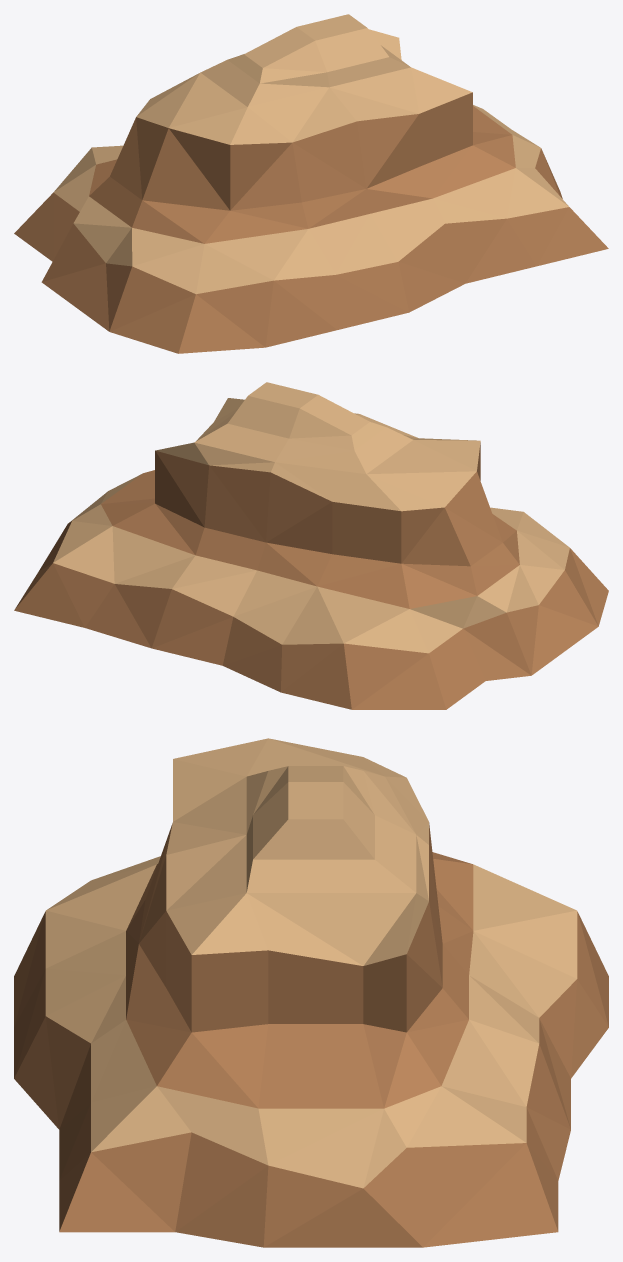
Rendered from Rock_1.fbx.
3 renders of one model, top to bottom at view 1: azimuth 30°, elevation 25°; view 2: azimuth 150°, elevation 25°; view 3: azimuth 270°, elevation 25°, orthographic. The views are drawn at different scales.
Visible parts, largest first — view 1: Rock_1; view 2: Rock_1; view 3: Rock_1.
Boxes of the visible parts, left/top/right/bottom form: Rock_1: left=14, top=14, right=608, bottom=353; Rock_1: left=14, top=382, right=608, bottom=709; Rock_1: left=14, top=738, right=608, bottom=1247.
Size of the model in its own units: 293 by 215 by 118.
